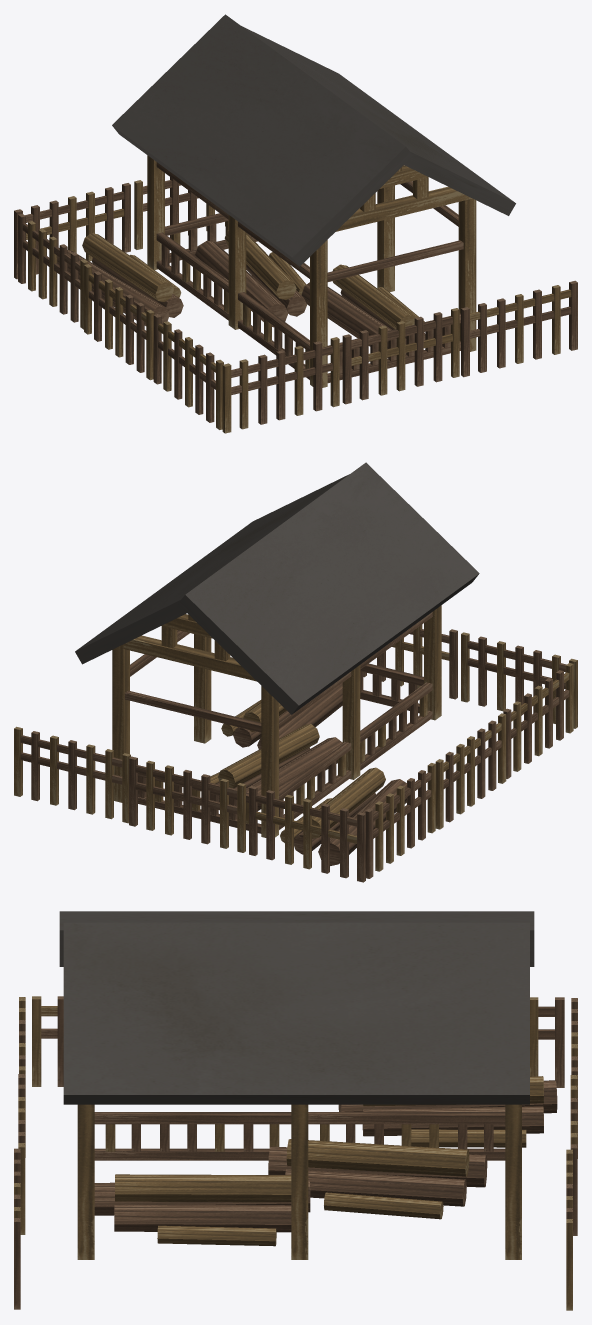
Rendered from LinChang01.fbx.
3 renders of one model, top to bottom at view 1: azimuth 30°, elevation 25°; view 2: azimuth 150°, elevation 25°; view 3: azimuth 270°, elevation 25°, orthographic. The views are drawn at different scales.
Visible parts, largest first — view 1: LinChang01; view 2: LinChang01; view 3: LinChang01.
Part boxes in pixels (<box>): LinChang01: <box>14,14,577,433</box>; LinChang01: <box>14,462,577,882</box>; LinChang01: <box>14,911,577,1310</box>.
Bounding box in the file's own units: 528 × 325 × 554.
